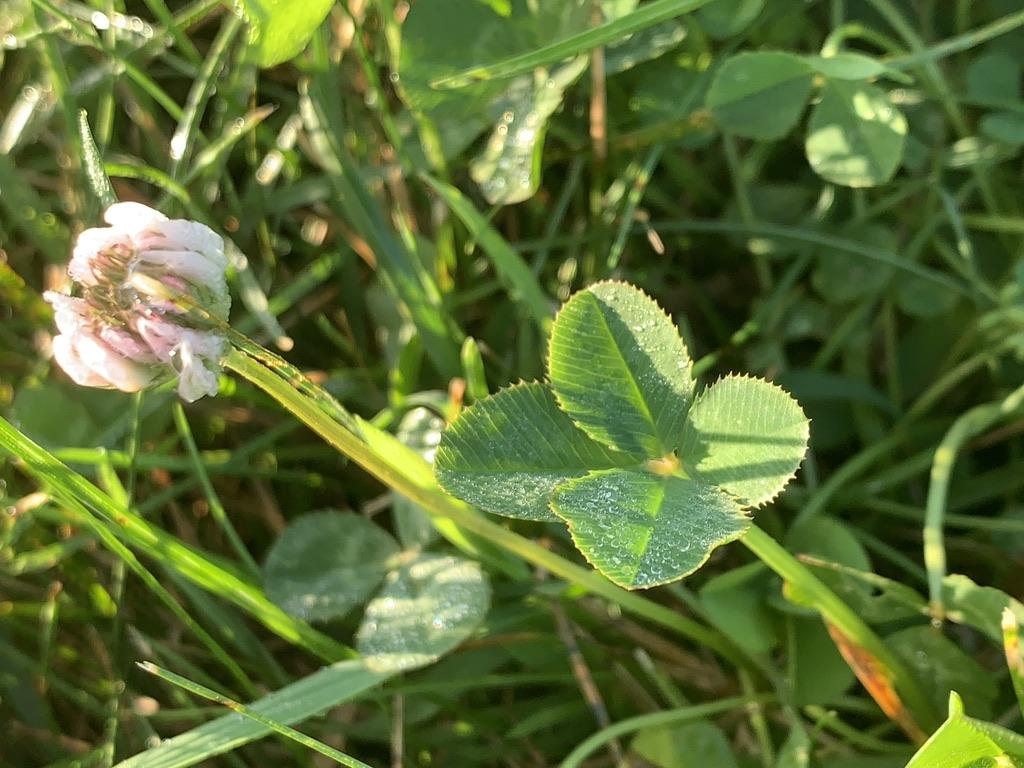4-Leaf-Clovers: (384, 160, 782, 438)
